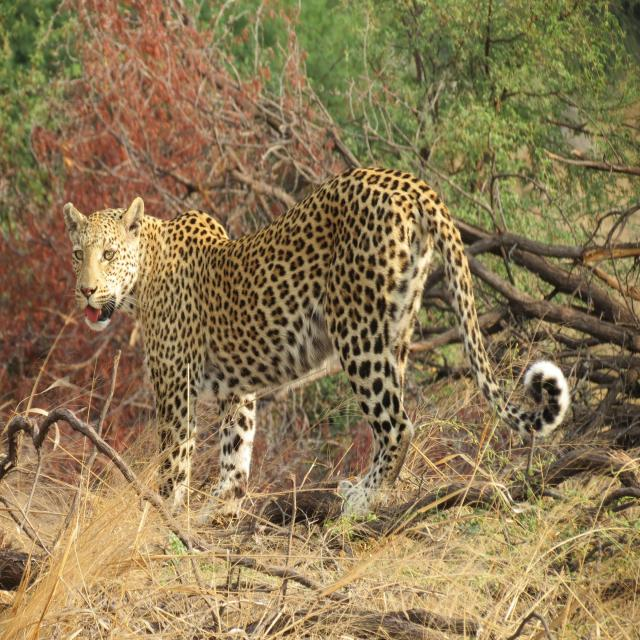Leopard: (75, 186, 560, 534)
